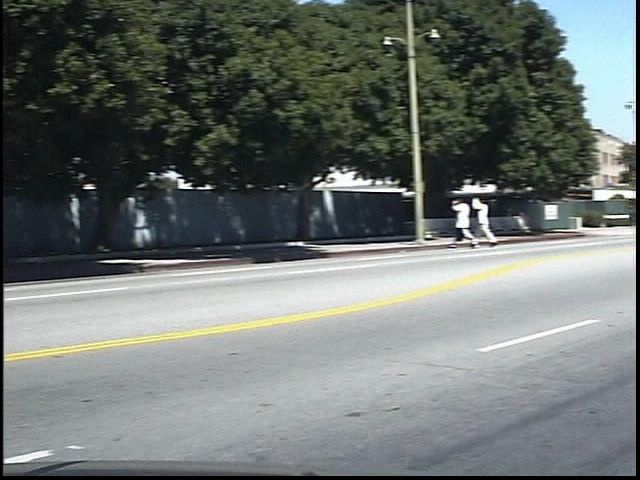person: (465, 191, 490, 254), (487, 193, 513, 252)
